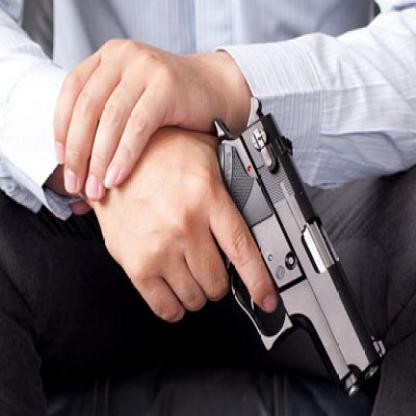gun: (93, 124, 382, 406)
